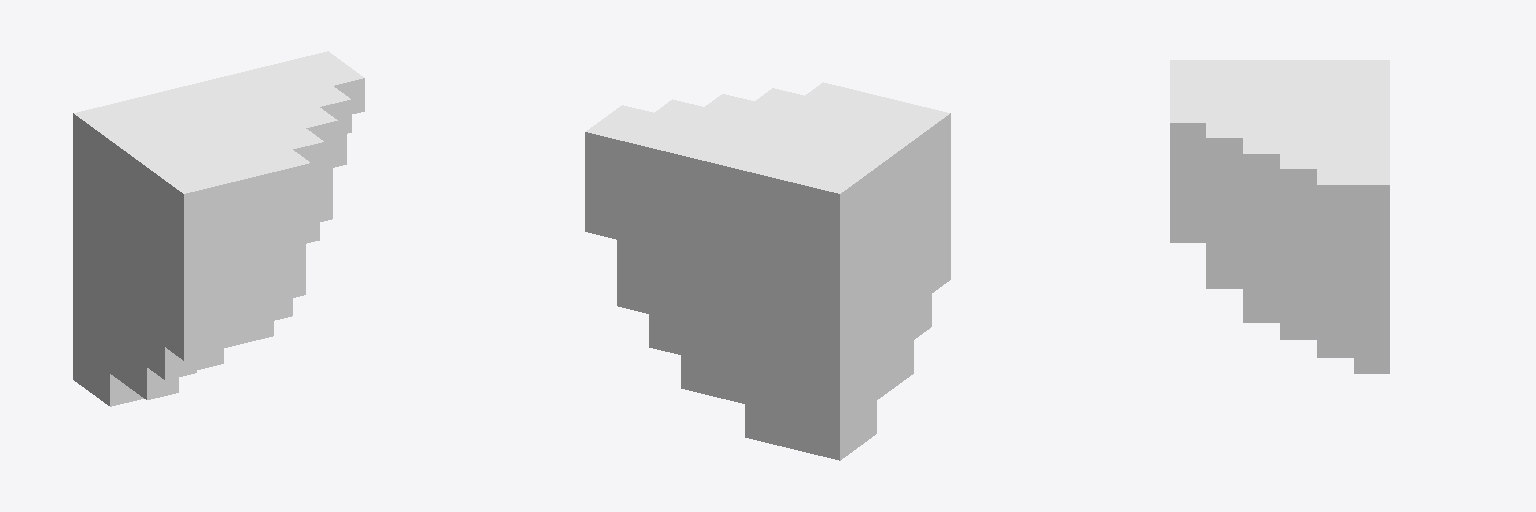
File: PotatoPiece.obj
3 renders of one model, left to right at view 1: azimuth 30°, elevation 25°; view 2: azimuth 150°, elevation 25°; view 3: azimuth 270°, elevation 25°, orthographic.
Parts seen in each view (by area): view 1: object 1; view 2: object 1; view 3: object 1.
Part boxes in pixels (left/top/right/bottom): object 1: left=73, top=51, right=364, bottom=406; object 1: left=585, top=82, right=950, bottom=460; object 1: left=1170, top=60, right=1389, bottom=373.
Size of the model in its own units: 0.8 by 0.8 by 0.6.